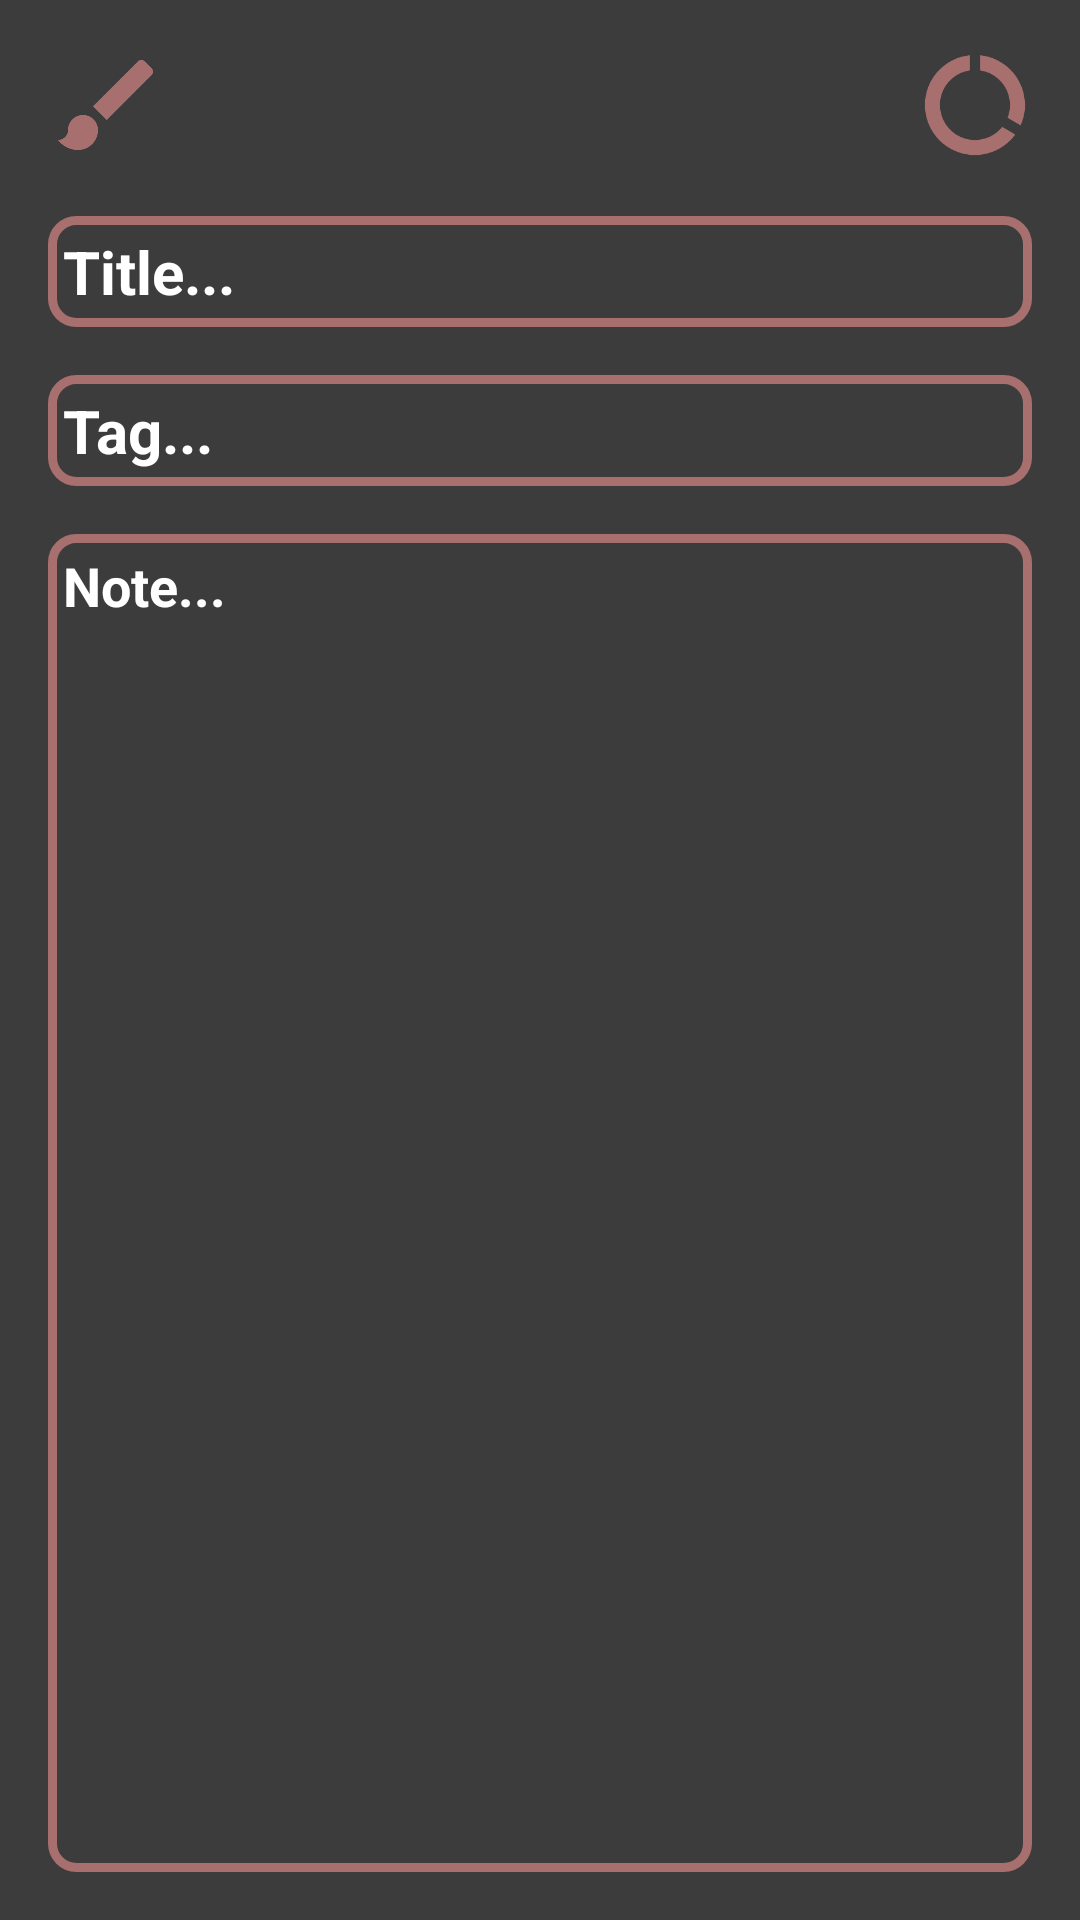

Icon click points for this 1080 x 1920 phone screenshot, format point (x, y):
brush: point (105, 105)
